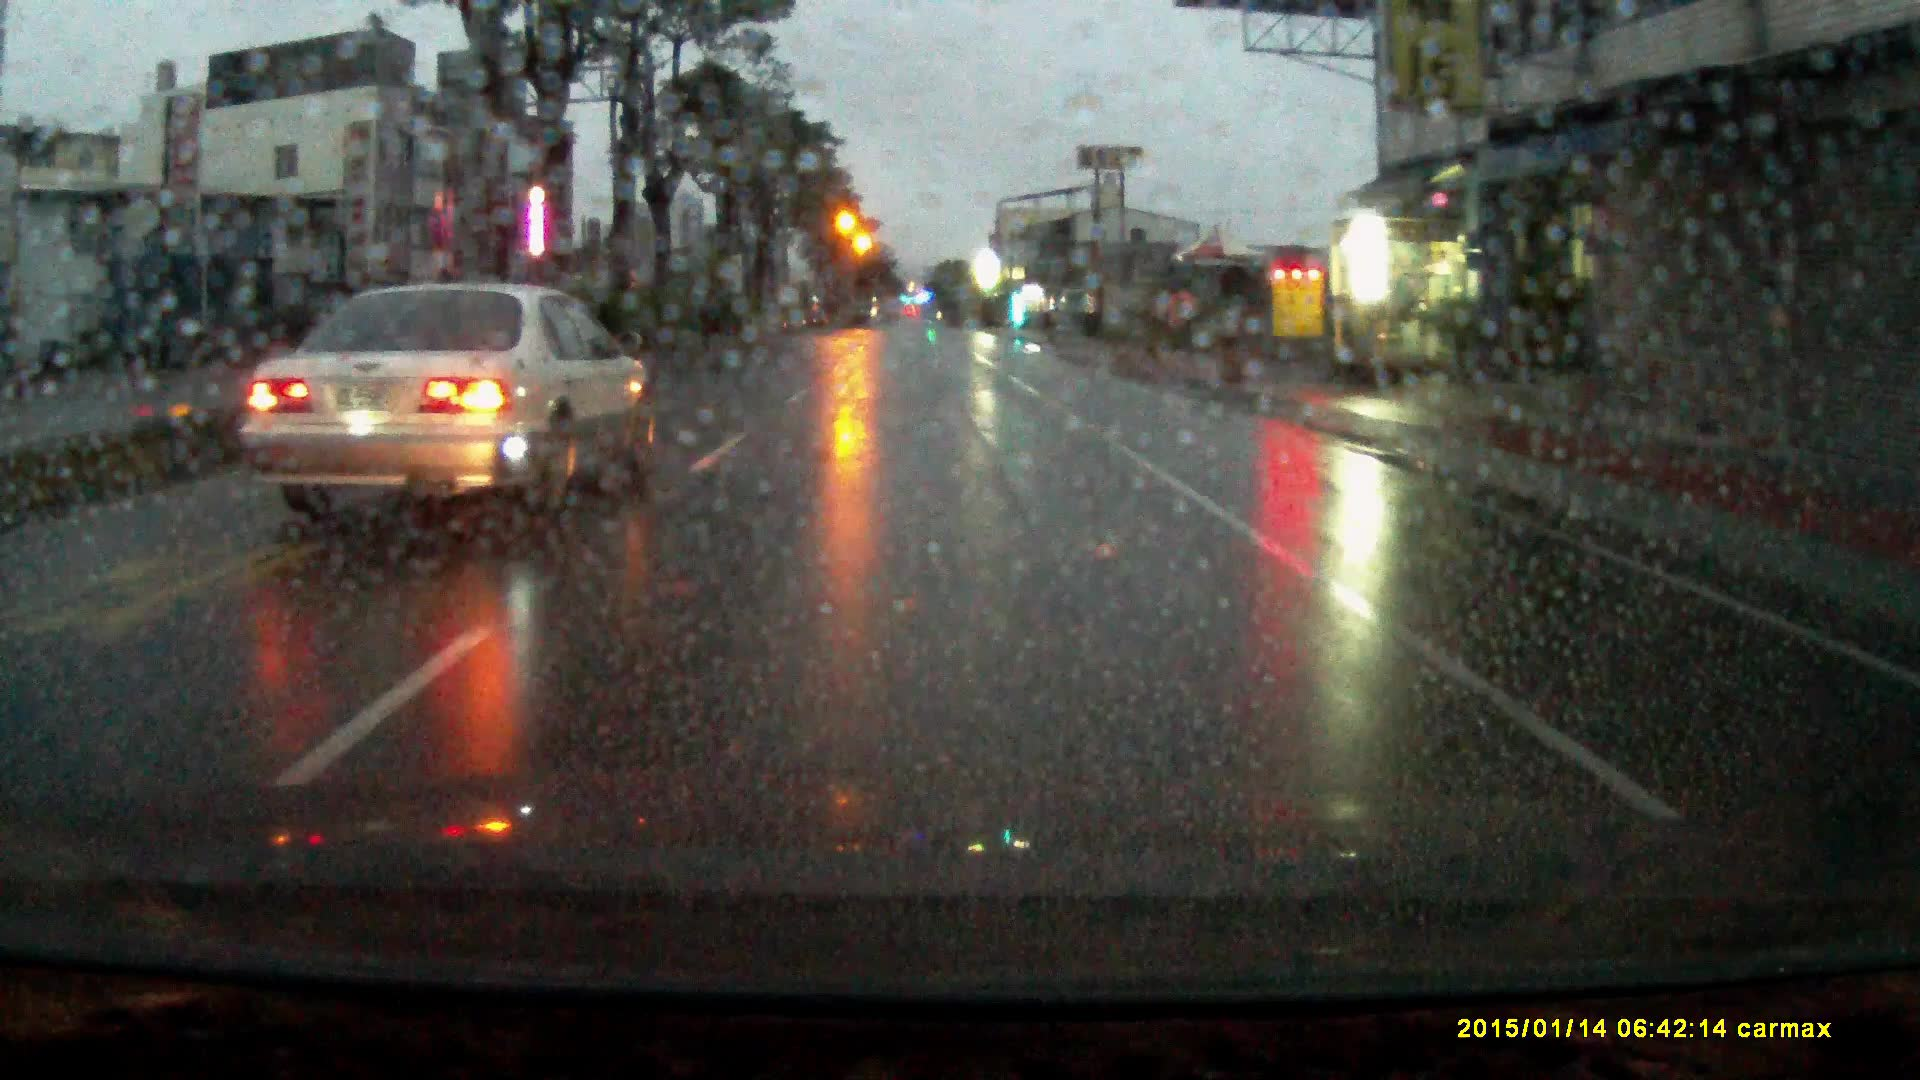vehicle: (233, 289, 659, 531)
